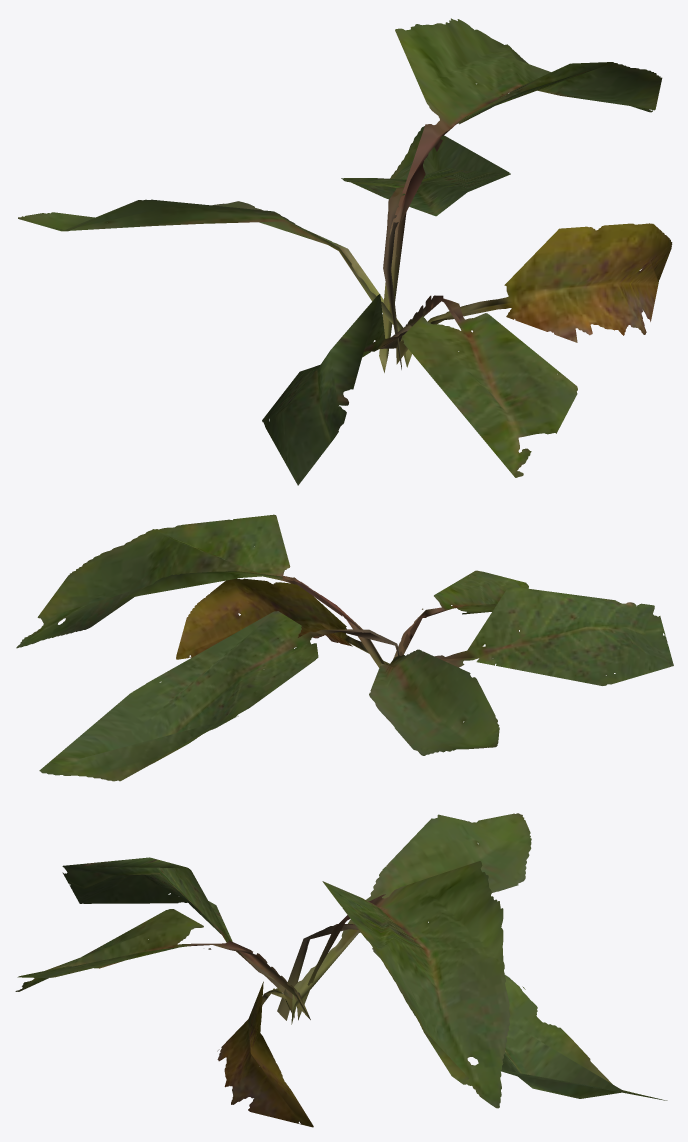
3 renders of one model, top to bottom at view 1: azimuth 30°, elevation 25°; view 2: azimuth 150°, elevation 25°; view 3: azimuth 270°, elevation 25°, orthographic. The views are drawn at different scales.
Visible parts, largest first — view 1: weed_plant_02__b_lod1; view 2: weed_plant_02__b_lod1; view 3: weed_plant_02__b_lod1.
Part boxes in pixels (left/top/right/bottom): weed_plant_02__b_lod1: left=18, top=18, right=672, bottom=485; weed_plant_02__b_lod1: left=16, top=514, right=673, bottom=781; weed_plant_02__b_lod1: left=15, top=813, right=667, bottom=1127.
Bounding box in the file's own units: 0.193 × 0.0708 × 0.2026.
1 material, 1 textured.
